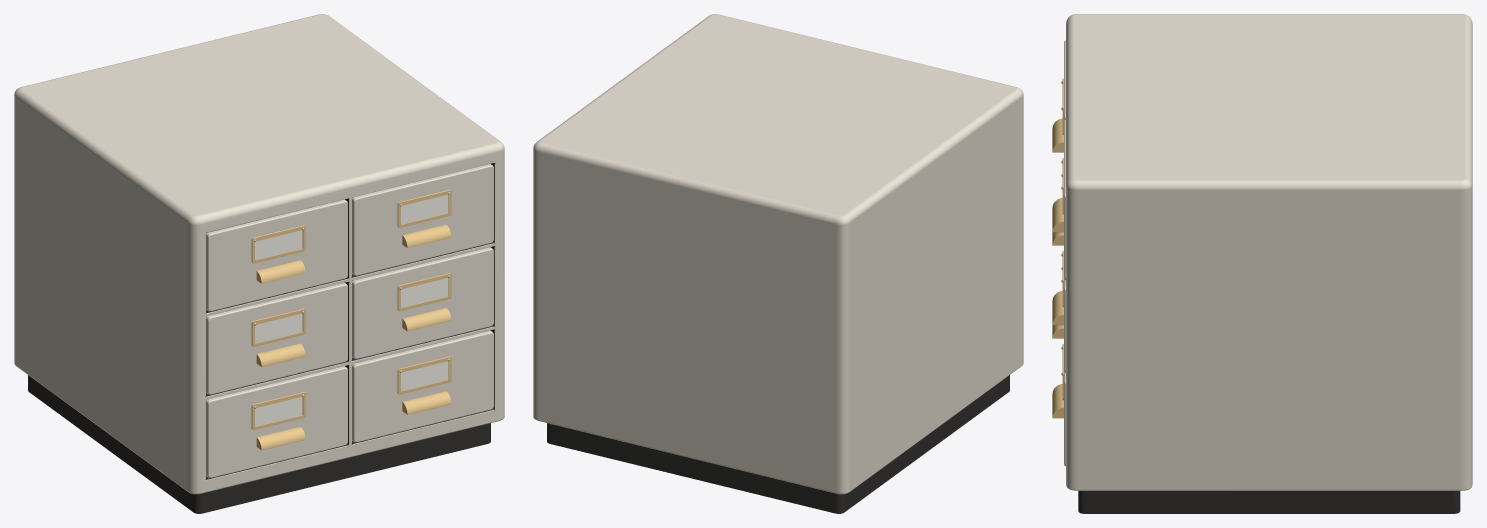
Rendered from cabinet.glb.
3 views of the same model, side by side, from view 1: azimuth 30°, elevation 25°; view 2: azimuth 150°, elevation 25°; view 3: azimuth 270°, elevation 25° (orthographic). The views are drawn at different scales.
Visible parts, largest first — view 1: cabinet, drawer4, drawer0, drawer1, drawer3, drawer2, drawer5, label1, label2, label0, label3, label4 (+1 smaller); view 2: cabinet; view 3: cabinet, drawer1, drawer3, drawer5, drawer0.
Part boxes in pixels (x1,y1,x2,y2): cabinet: [14, 14, 504, 513]; drawer4: [206, 366, 347, 477]; drawer0: [206, 199, 347, 311]; drawer1: [352, 164, 493, 275]; drawer3: [352, 247, 493, 359]; drawer2: [206, 283, 347, 394]; drawer5: [352, 330, 493, 442]; label1: [401, 194, 448, 224]; label2: [255, 313, 302, 343]; label0: [255, 230, 302, 259]; label3: [401, 278, 448, 307]; label4: [255, 397, 302, 426]; cabinet: [533, 14, 1023, 513]; cabinet: [1066, 14, 1472, 513]; drawer1: [1052, 119, 1065, 280]; drawer3: [1052, 251, 1065, 373]; drawer5: [1052, 344, 1065, 466]; drawer0: [1052, 40, 1065, 152].
Bounding box in the file's own units: 0.4 × 0.365 × 0.4135.
